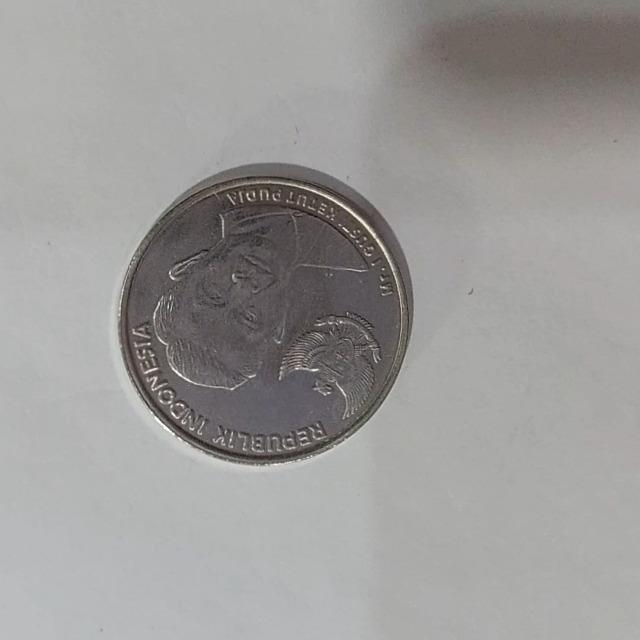Rp100: (114, 161, 414, 466)
